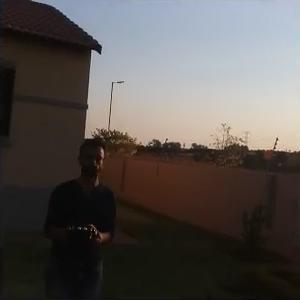follow: (36, 134, 119, 298)
